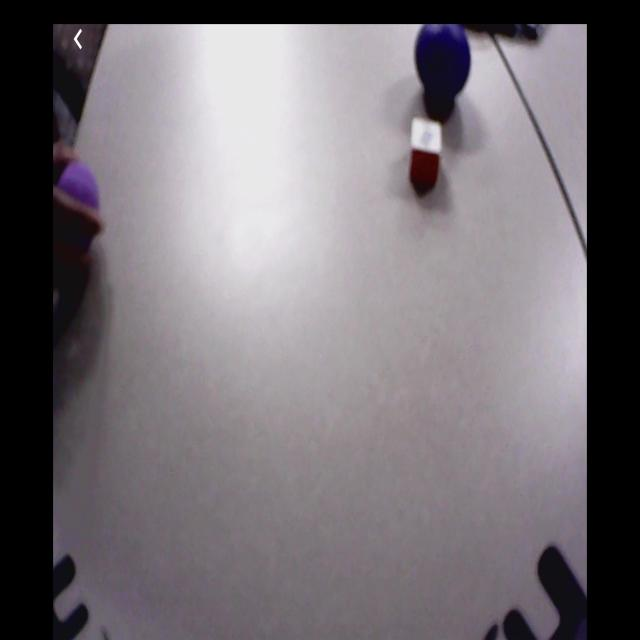ball: (416, 24, 471, 103), (54, 156, 100, 247)
